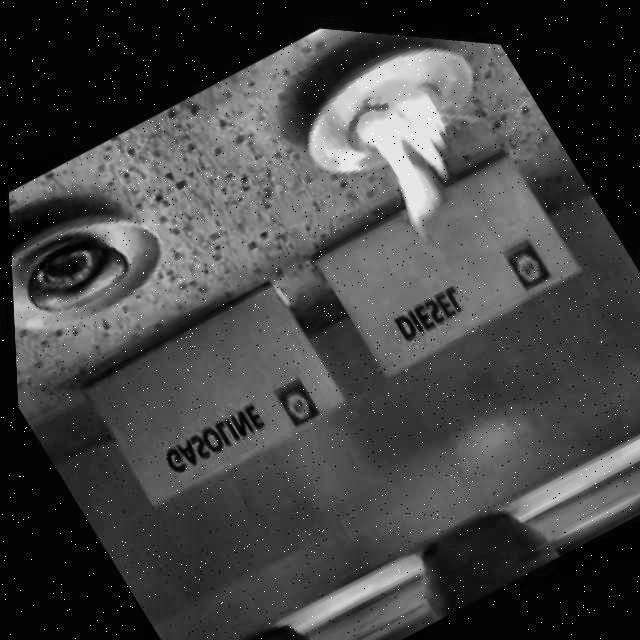Fire: (336, 60, 495, 238)
